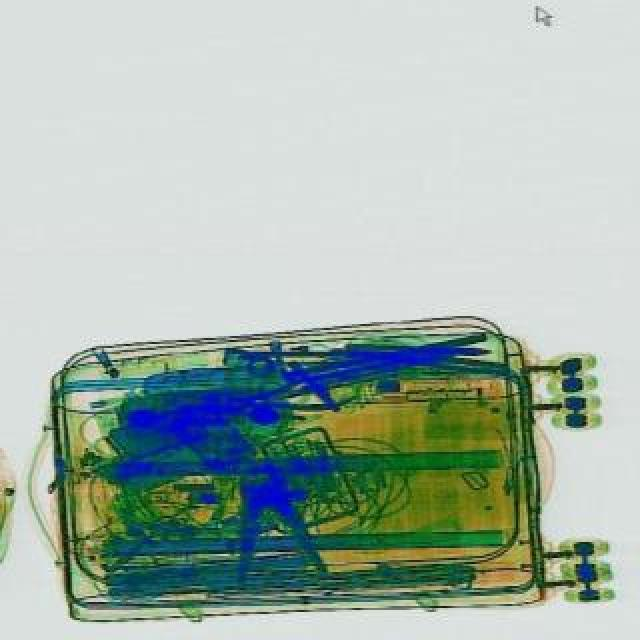wrench: (214, 458, 328, 588), (208, 362, 354, 428), (374, 342, 502, 372)
